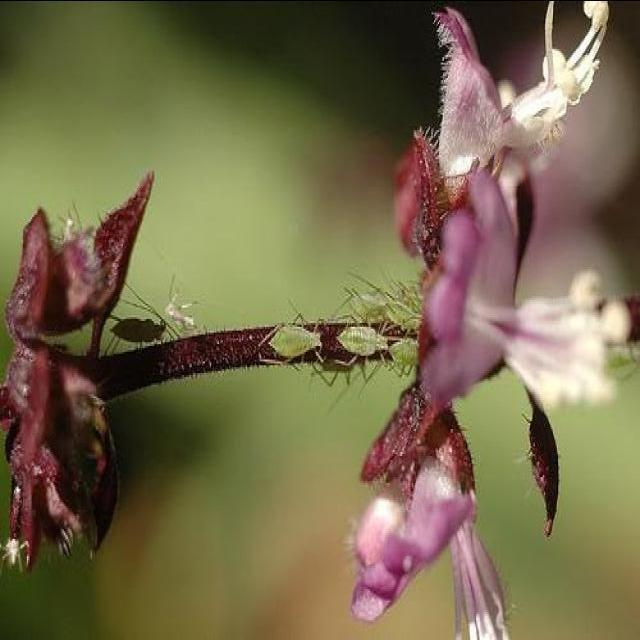aphid: (251, 317, 418, 377), (102, 306, 174, 352)
